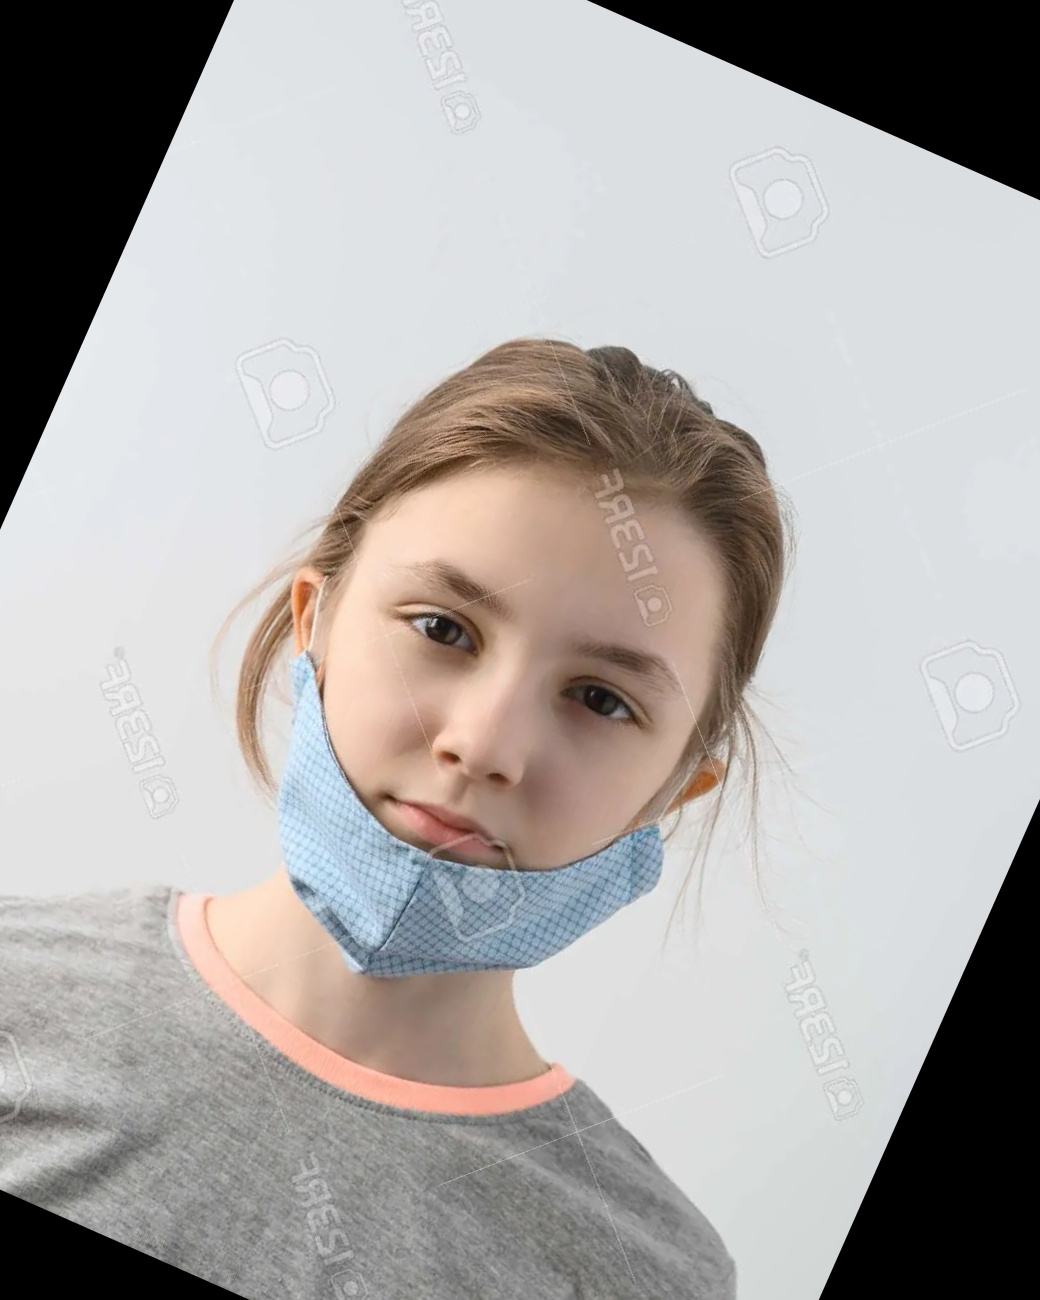mask_weared_incorrect: (272, 394, 736, 977)
